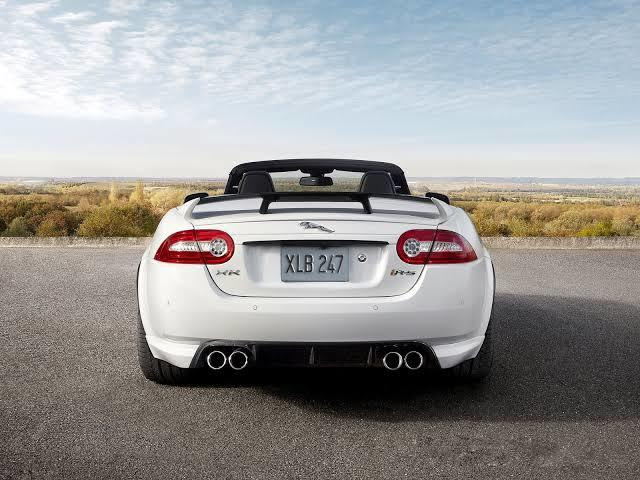audi: (133, 155, 497, 394)
